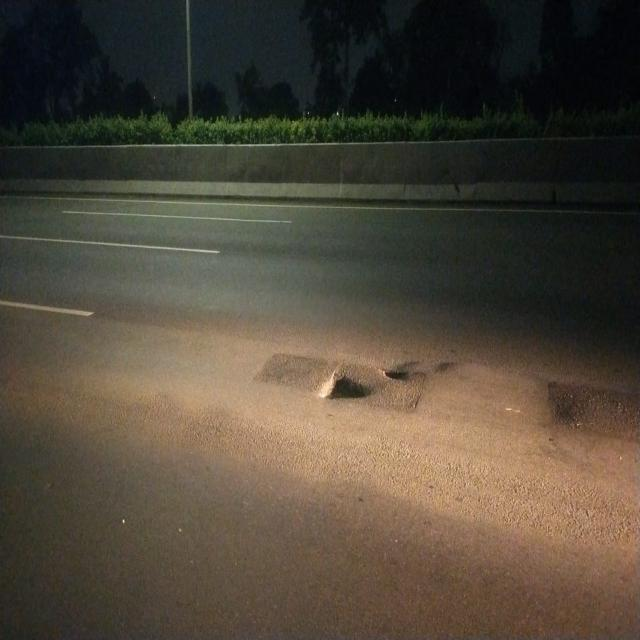Buraco: (316, 368, 378, 403), (376, 365, 417, 387)
